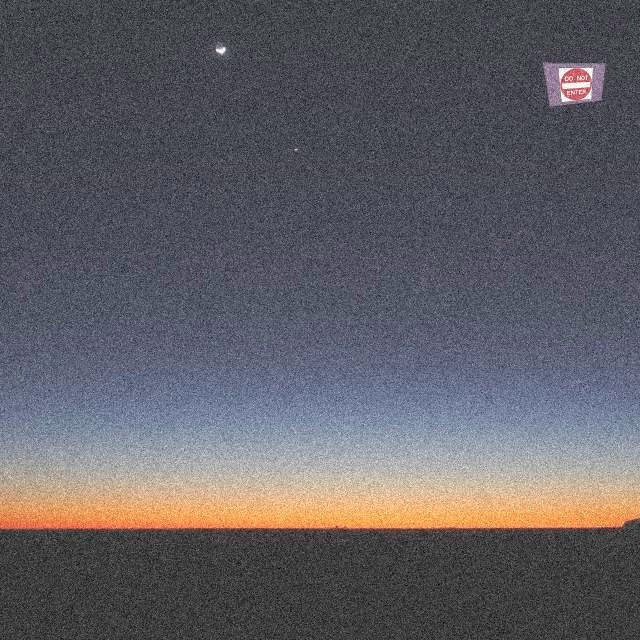DO_NOT_ENTER: (557, 66, 593, 103)
